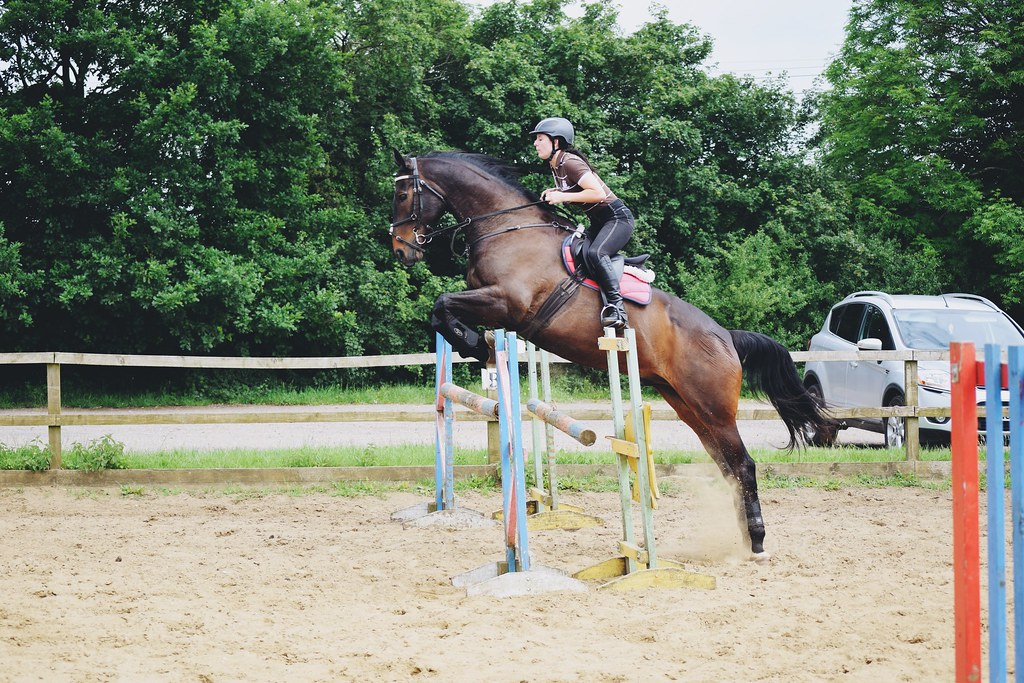car: (806, 204, 1024, 449)
horse: (365, 102, 819, 560)
person: (525, 93, 657, 326)
